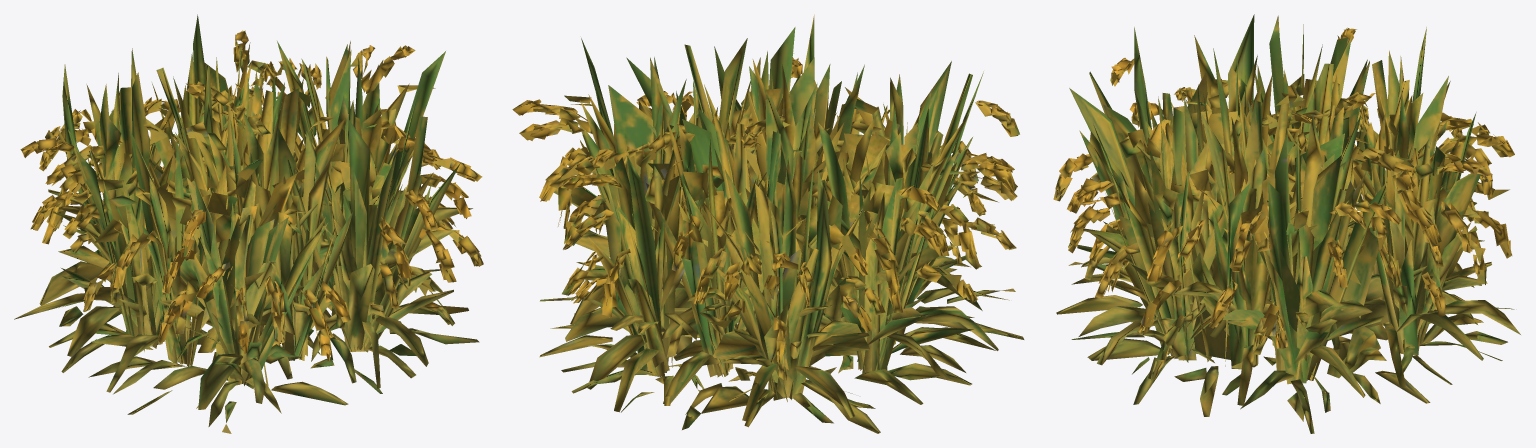
Rendered from Meshy_AI_Golden_Rice_Harvest_0824161317_texture.fbx.
3 renders of one model, left to right at view 1: azimuth 30°, elevation 25°; view 2: azimuth 150°, elevation 25°; view 3: azimuth 270°, elevation 25°, orthographic. The views are drawn at different scales.
Parts seen in each view (by area): view 1: mesh_node; view 2: mesh_node; view 3: mesh_node.
Part boxes in pixels (x1=…): mesh_node: x1=14, y1=14, x2=483, y2=433; mesh_node: x1=512, y1=14, x2=1024, y2=433; mesh_node: x1=1053, y1=14, x2=1520, y2=433.
Bounding box in the file's own units: 164 × 100 × 163.
1 material, 1 textured.
